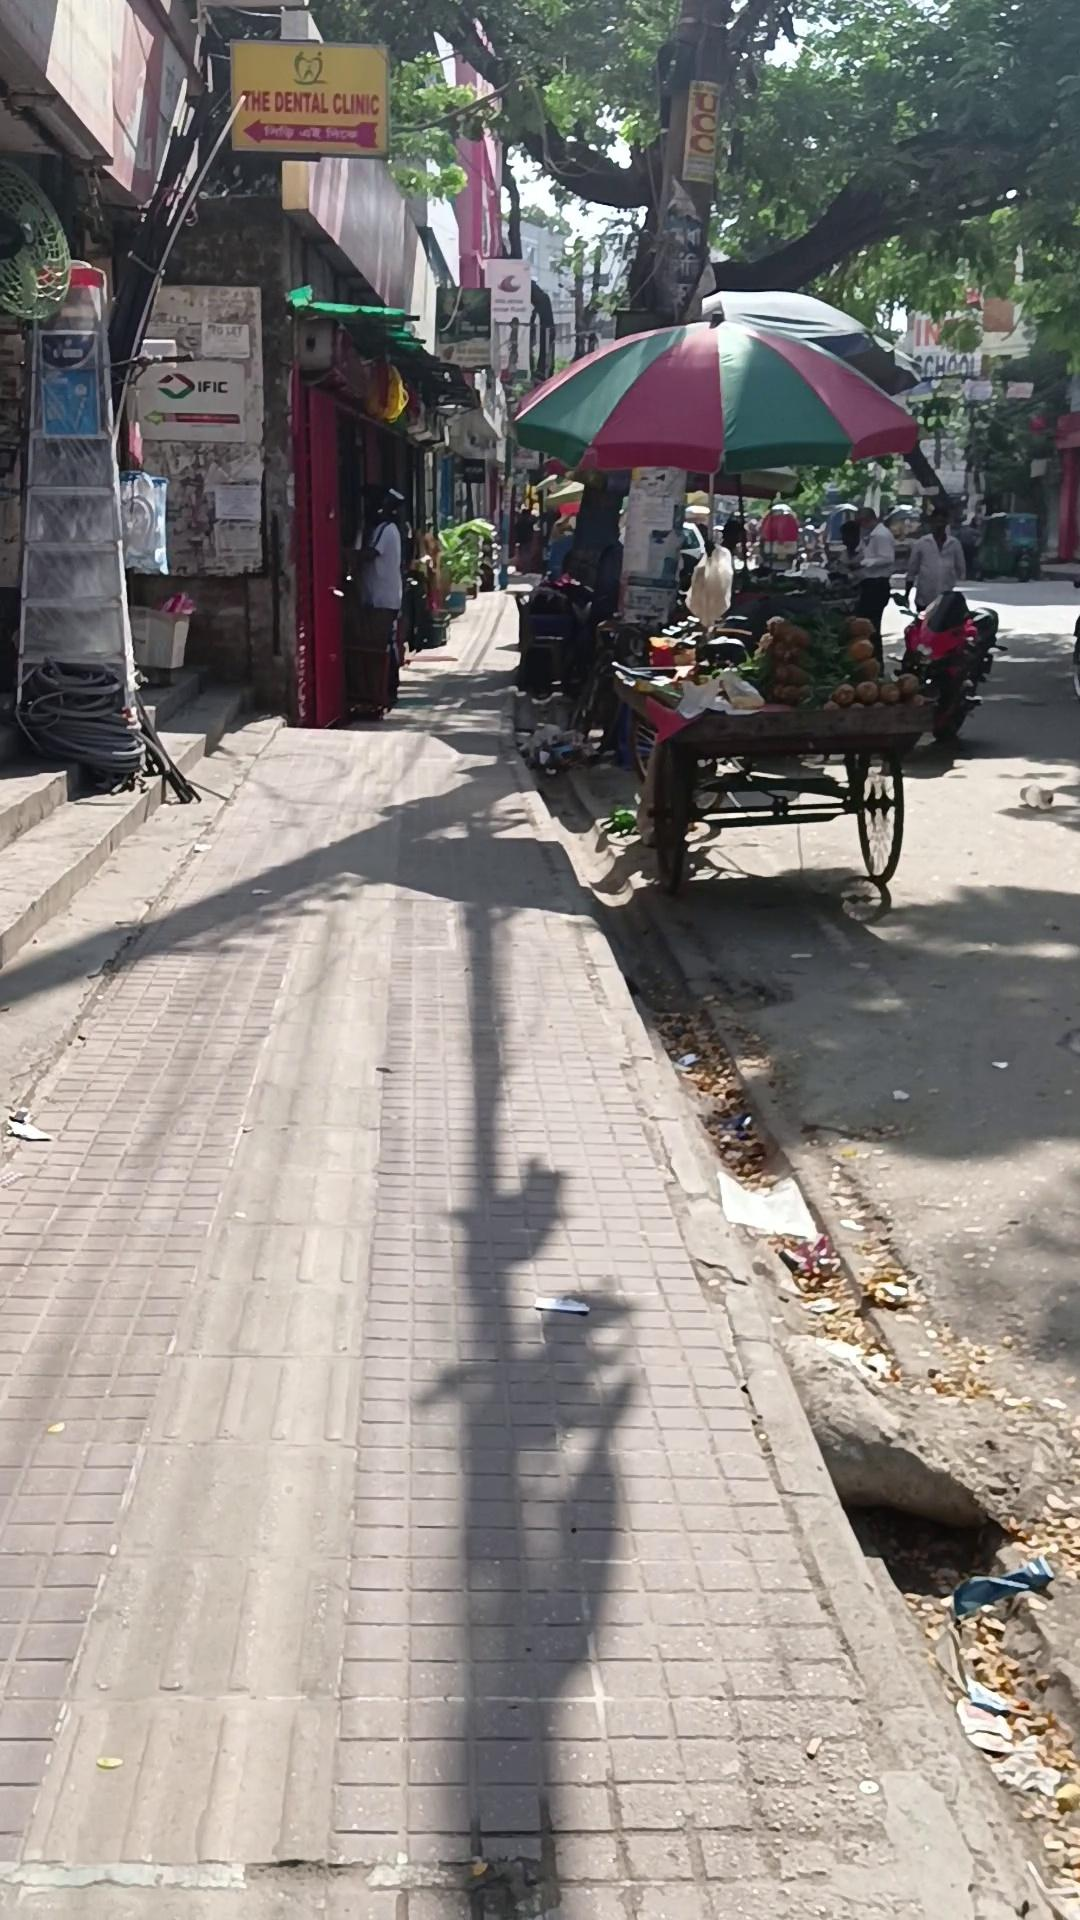Broken-road: (500, 659, 1064, 1915), (715, 1278, 1060, 1916)
Cat: (514, 588, 575, 695), (127, 599, 193, 671)
Construction-barrier: (884, 575, 1001, 742)
Fallen-tree: (436, 531, 480, 612)
Fence: (608, 653, 939, 895)
Garbage: (3, 593, 1065, 1916)
Motorcycle: (1, 705, 284, 1133)
Muddy road: (975, 512, 1039, 582)
Obstacle: (117, 193, 295, 709)
